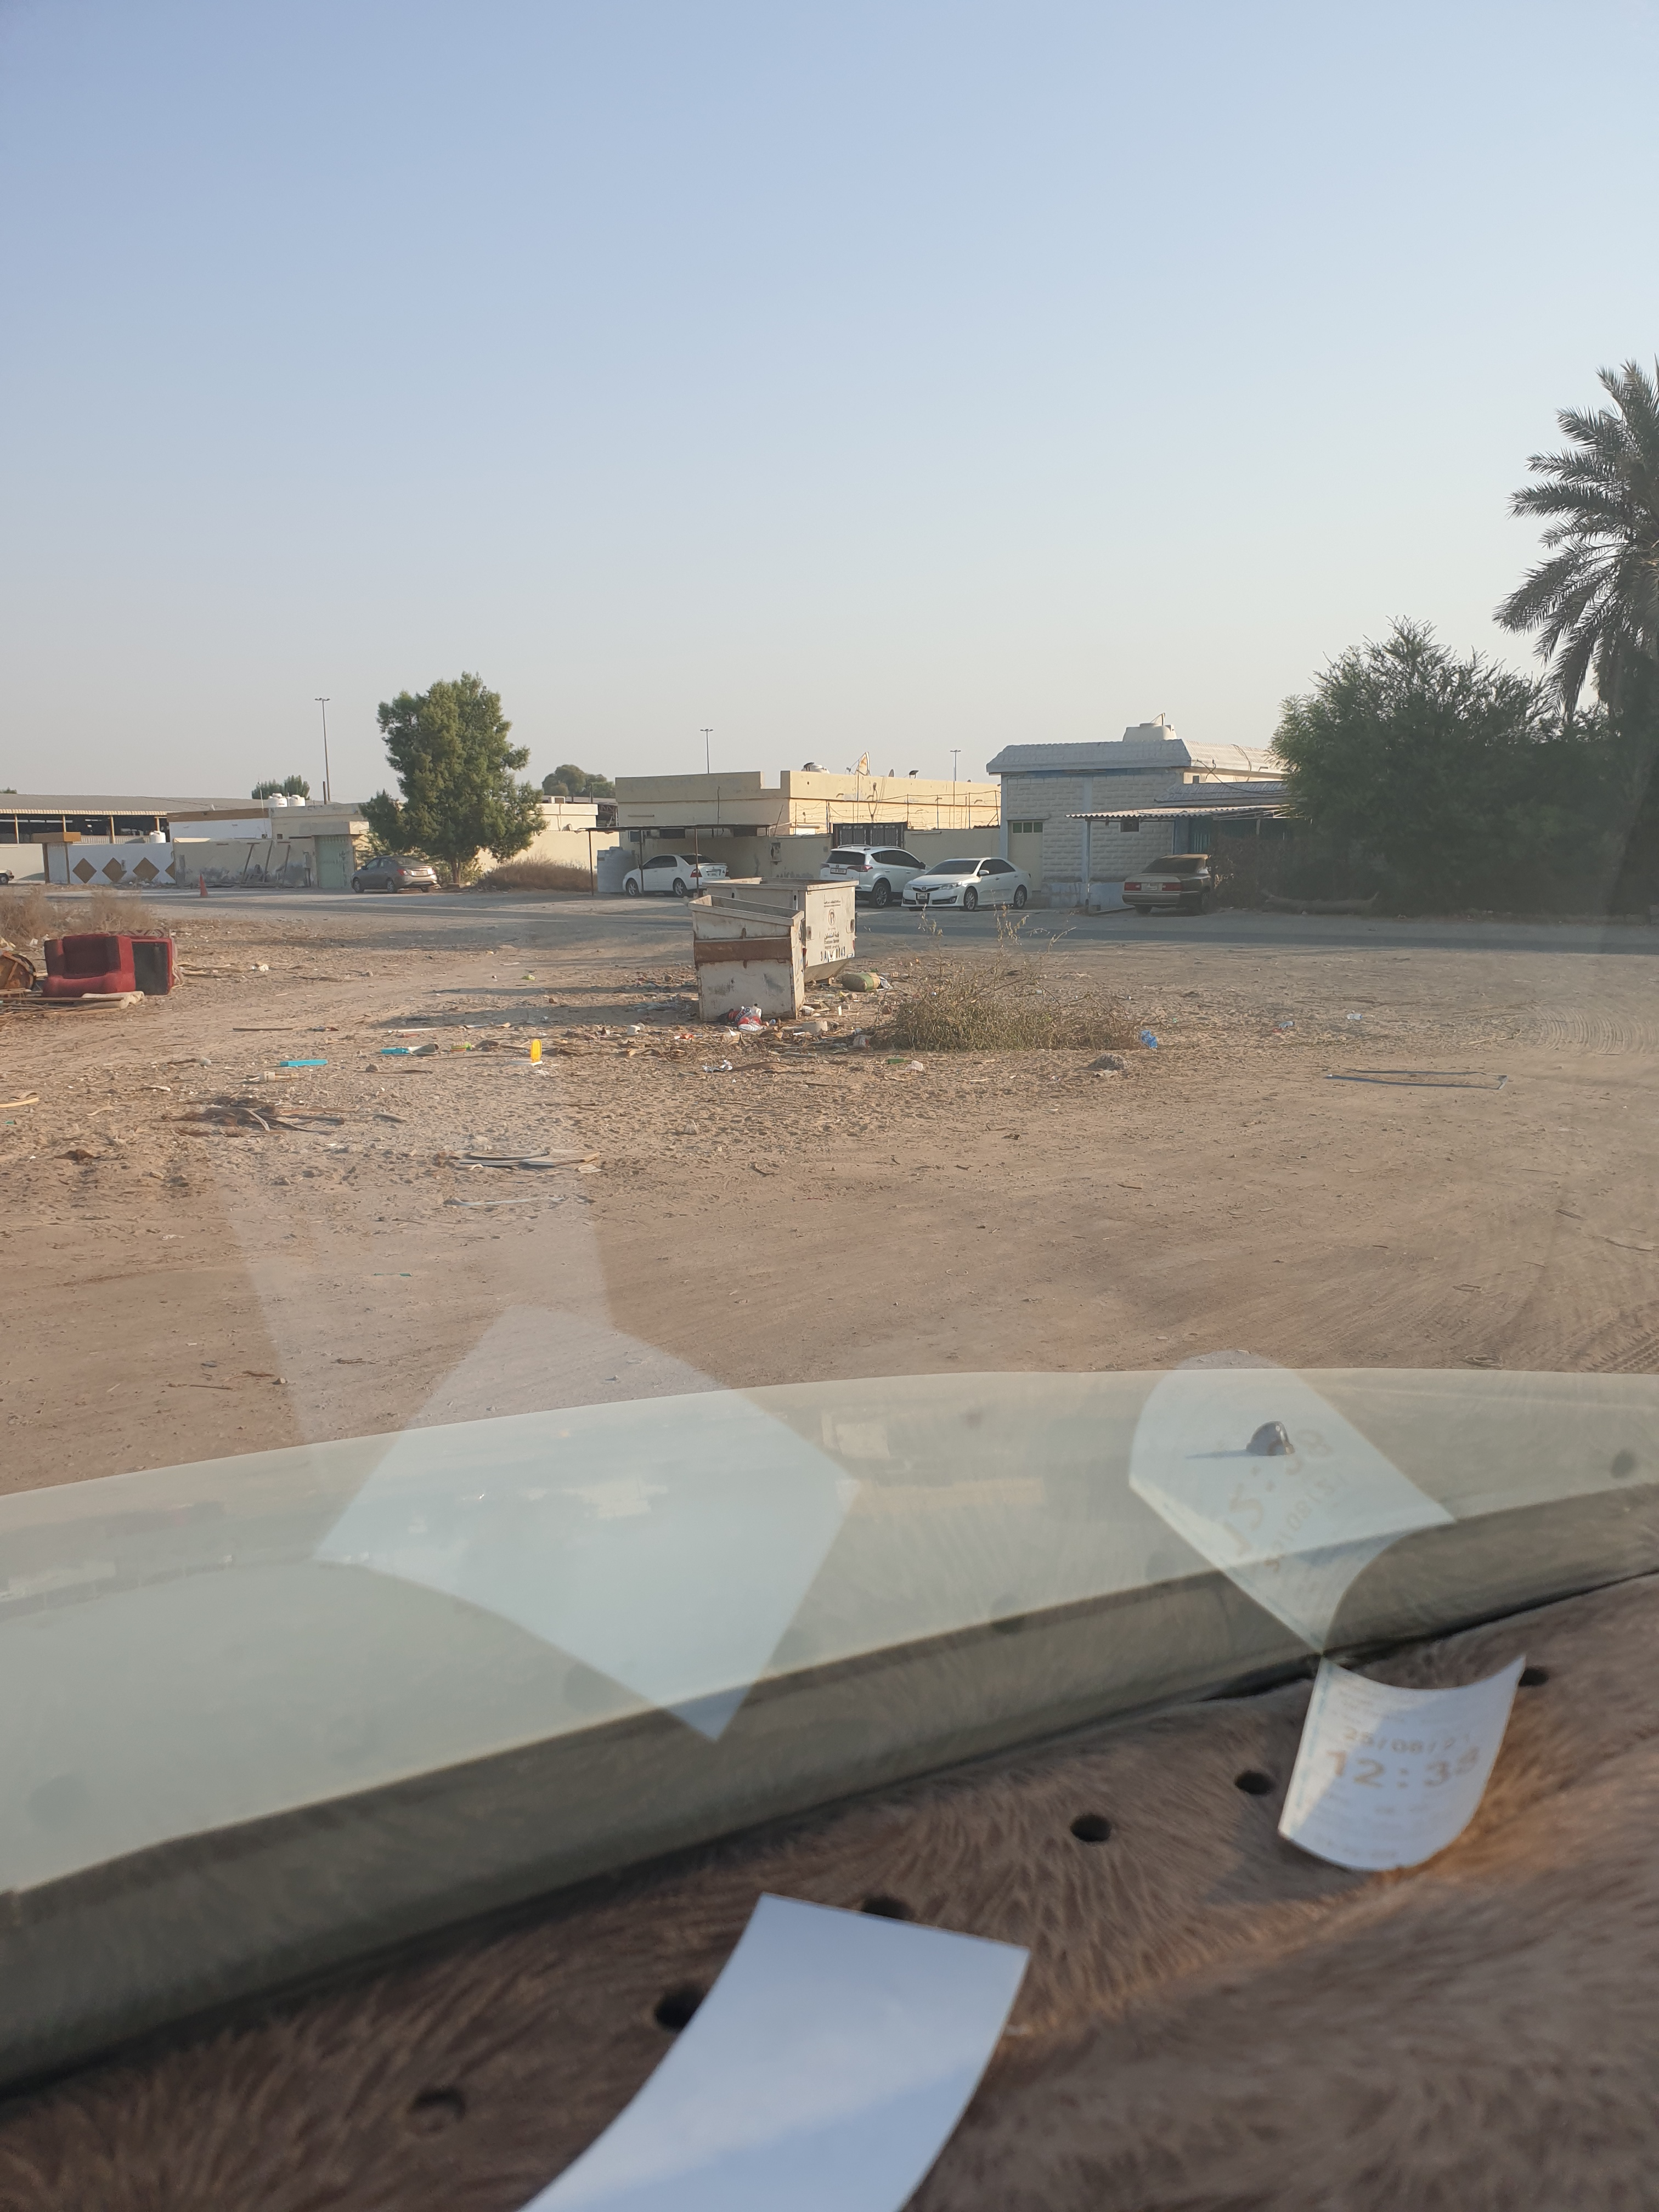fallen_trees: (882, 975, 1161, 1061), (183, 1080, 342, 1163)
uncollected_waste: (40, 907, 218, 1022)
